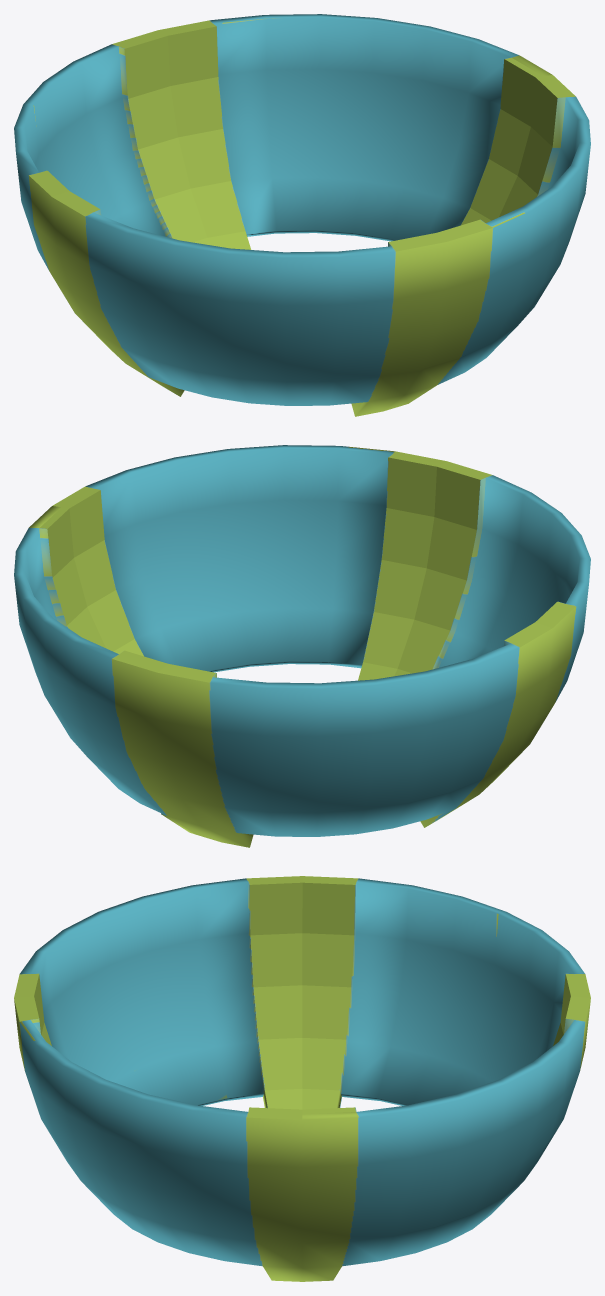
File: Cockpit.fbx
The picture shows the model from 3 angles, top to bottom: view 1: azimuth 30°, elevation 25°; view 2: azimuth 150°, elevation 25°; view 3: azimuth 270°, elevation 25°; orthographic projection.
Parts seen in each view (by area): view 1: Sphere; view 2: Sphere; view 3: Sphere.
Boxes of the visible parts, x1,y1,x2,y2 form: Sphere: (14,14,590,416); Sphere: (14,445,590,847); Sphere: (14,876,590,1281).
Size of the model in its own units: 208 by 86.69 by 208.
Materials: 1 (1 with a texture image).
